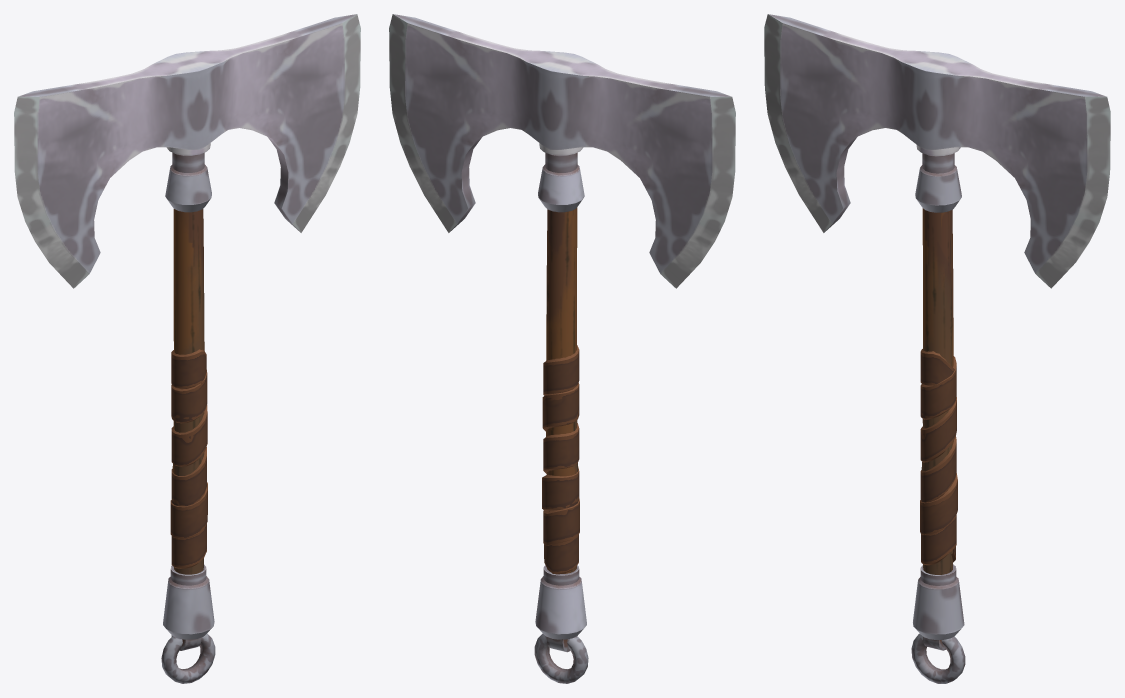
The model's file is Axe_Double_Bronze.fbx.
The picture shows the model from 3 angles, left to right: view 1: azimuth 30°, elevation 25°; view 2: azimuth 150°, elevation 25°; view 3: azimuth 330°, elevation 25°; orthographic projection.
Parts seen in each view (by area): view 1: Axe_Double_Bronze; view 2: Axe_Double_Bronze; view 3: Axe_Double_Bronze.
Boxes of the visible parts, x1,y1,x2,y2 form: Axe_Double_Bronze: [14, 14, 360, 683]; Axe_Double_Bronze: [389, 14, 735, 683]; Axe_Double_Bronze: [764, 14, 1110, 683].
Size of the model in its own units: 48.24 by 83.31 by 6.29.
